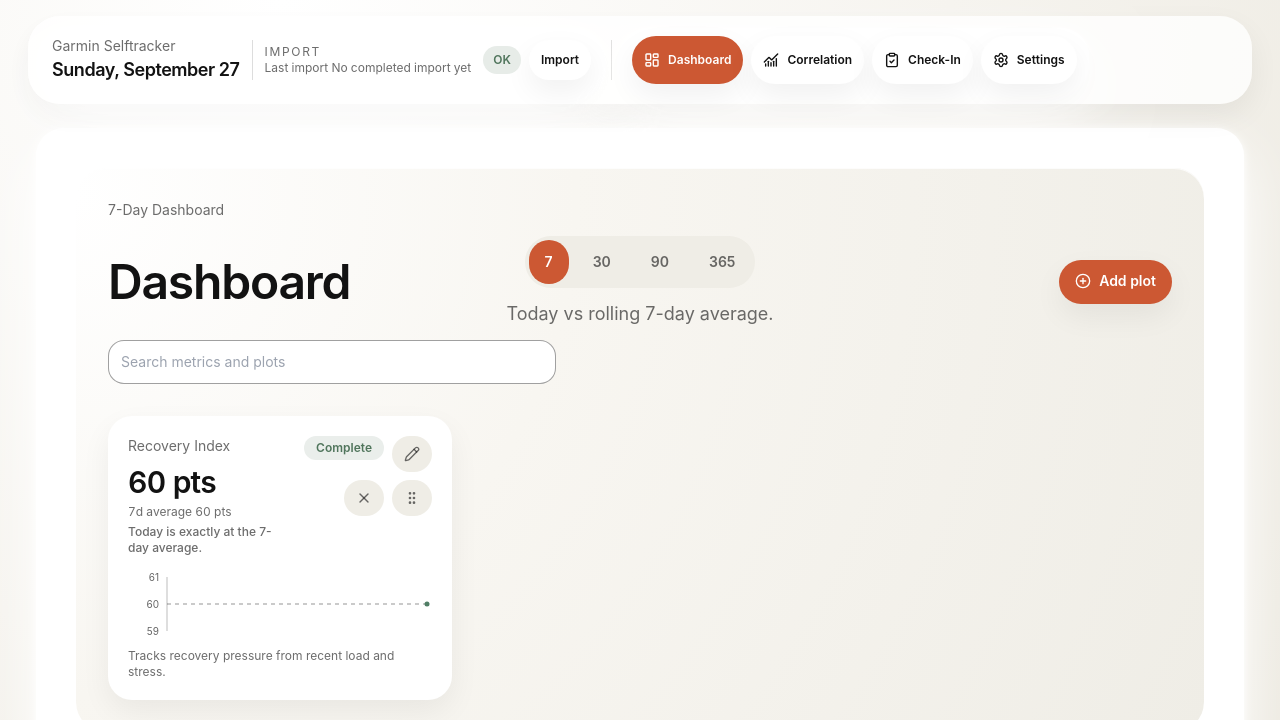
Test: App persistence workflows › offers strength volume, sets, and reps as dashboard plots
Click the button "Add plot": (1116, 282) [1059,260,1172,304]
(page scrolled)
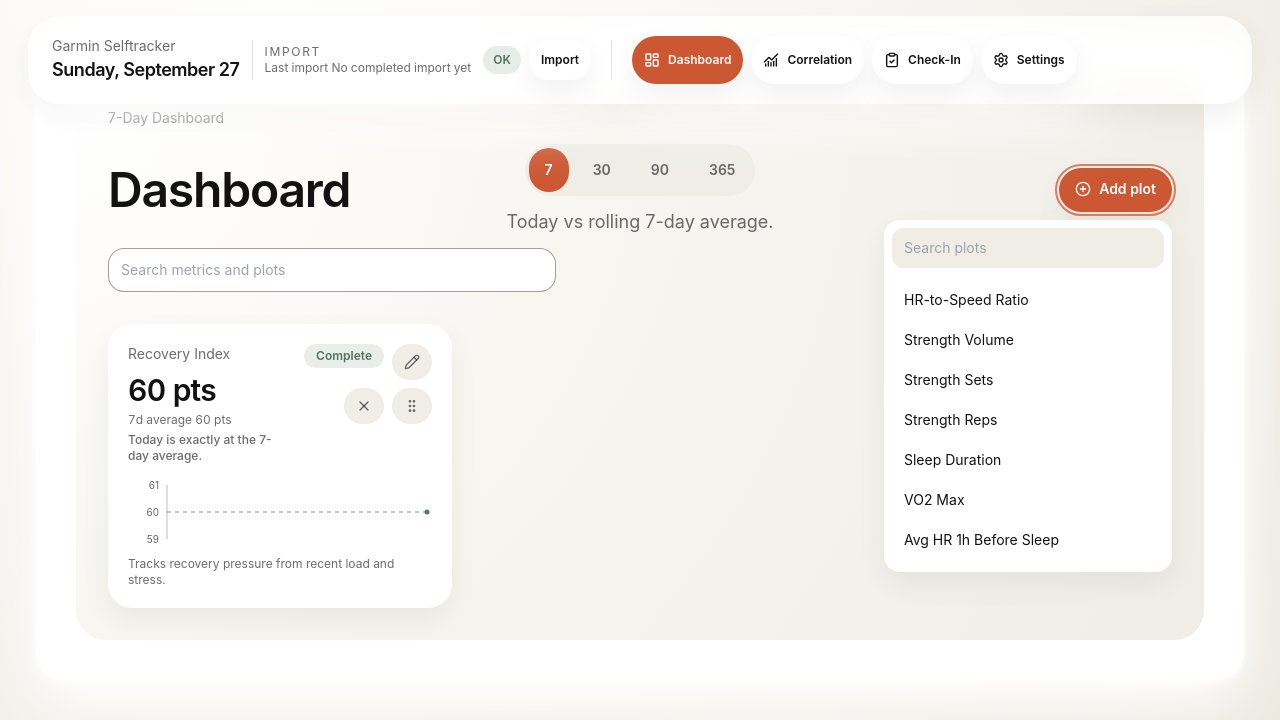
Result: the button "Strength Volume" is shown at [892,322,1160,358]
Result: the button "Strength Sets" is shown at [892,362,1160,398]
Result: the button "Strength Reps" is shown at [892,402,1160,438]
